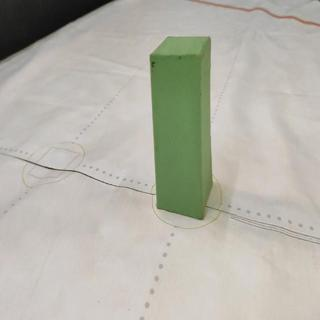greenbox: (149, 35, 213, 220)
